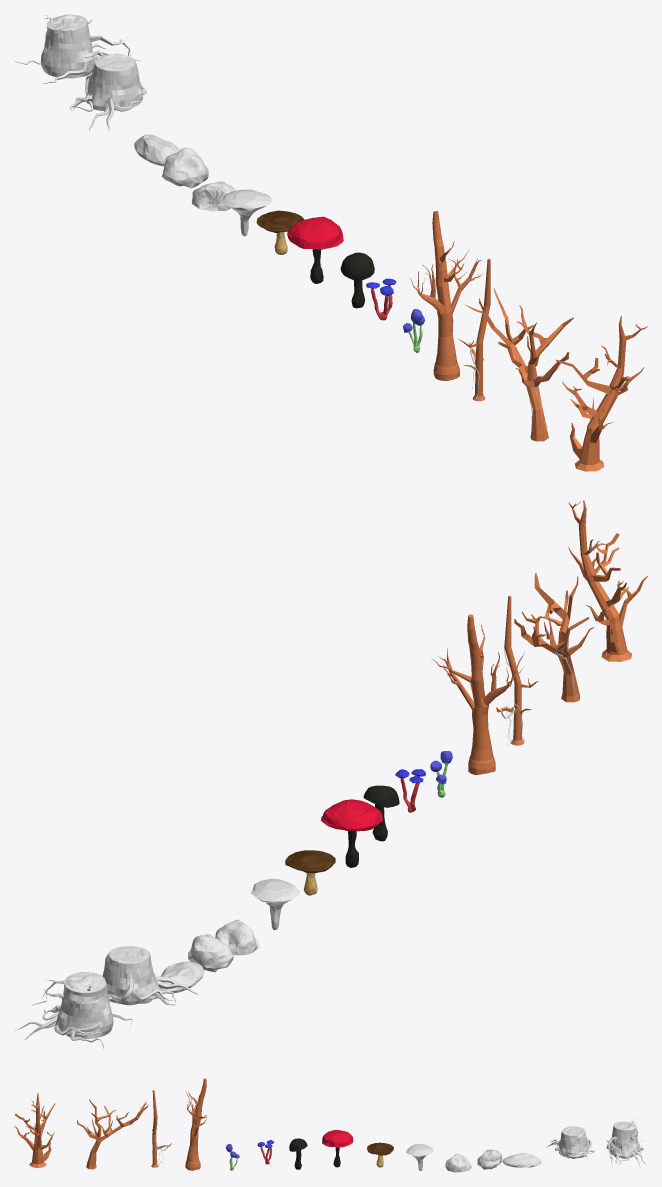
File: Props.fbx
3 views of the same model, one above another, from view 1: azimuth 30°, elevation 25°; view 2: azimuth 150°, elevation 25°; view 3: azimuth 270°, elevation 25° (orthographic). The views are drawn at different scales.
Visible parts, largest first — view 1: Tree_1, Stump_1, Tree_4, Stump_2, Tree_3, Mush_3, Rock_2, Tree_2, Mush_1, Mush_4, Mush_2, Rock_1 (+1 smaller); view 2: Stump_1, Tree_4, Tree_1, Stump_2, Tree_3, Mush_3, Tree_2, Rock_2, Mush_1, Mush_2, Rock_3, Mush_4 (+1 smaller); view 3: Stump_1, Tree_4, Stump_2, Tree_3, Tree_1, Mush_3, Rock_1, Tree_2, Rock_2, Rock_3, Mush_2, Mush_1 (+3 smaller).
Boxes of the visible parts, x1=… form: Tree_1: x1=409, y1=211, x2=482, y2=380; Stump_1: x1=15, y1=14, x2=140, y2=84; Tree_4: x1=556, y1=315, x2=647, y2=471; Stump_2: x1=69, y1=53, x2=146, y2=131; Tree_3: x1=465, y1=288, x2=573, y2=441; Mush_3: x1=287, y1=216, x2=343, y2=283; Rock_2: x1=161, y1=147, x2=208, y2=188; Tree_2: x1=458, y1=258, x2=490, y2=401; Mush_1: x1=220, y1=189, x2=271, y2=236; Mush_4: x1=340, y1=252, x2=374, y2=308; Mush_2: x1=256, y1=210, x2=304, y2=254; Rock_1: x1=134, y1=134, x2=179, y2=166; Stump_1: x1=15, y1=972, x2=132, y2=1048; Tree_4: x1=568, y1=500, x2=647, y2=661; Tree_1: x1=431, y1=614, x2=524, y2=775; Stump_2: x1=102, y1=946, x2=198, y2=1005; Tree_3: x1=514, y1=573, x2=594, y2=702; Mush_3: x1=321, y1=799, x2=382, y2=867; Tree_2: x1=496, y1=595, x2=538, y2=745; Rock_2: x1=188, y1=934, x2=233, y2=972; Mush_1: x1=251, y1=878, x2=300, y2=929; Mush_2: x1=285, y1=850, x2=335, y2=895; Rock_3: x1=215, y1=919, x2=259, y2=955; Mush_4: x1=363, y1=785, x2=399, y2=841; Stump_1: x1=606, y1=1120, x2=646, y2=1168; Tree_4: x1=14, y1=1093, x2=55, y2=1168; Stump_2: x1=546, y1=1126, x2=594, y2=1160; Tree_3: x1=77, y1=1099, x2=147, y2=1169; Tree_1: x1=185, y1=1078, x2=208, y2=1170; Mush_3: x1=322, y1=1129, x2=353, y2=1167; Rock_1: x1=502, y1=1153, x2=541, y2=1167; Tree_2: x1=151, y1=1090, x2=171, y2=1167; Rock_2: x1=477, y1=1149, x2=502, y2=1169; Rock_3: x1=445, y1=1153, x2=471, y2=1172; Mush_2: x1=367, y1=1142, x2=393, y2=1167; Mush_1: x1=406, y1=1144, x2=433, y2=1170.
Size of the model in its own units: 544 by 792 by 4909.
